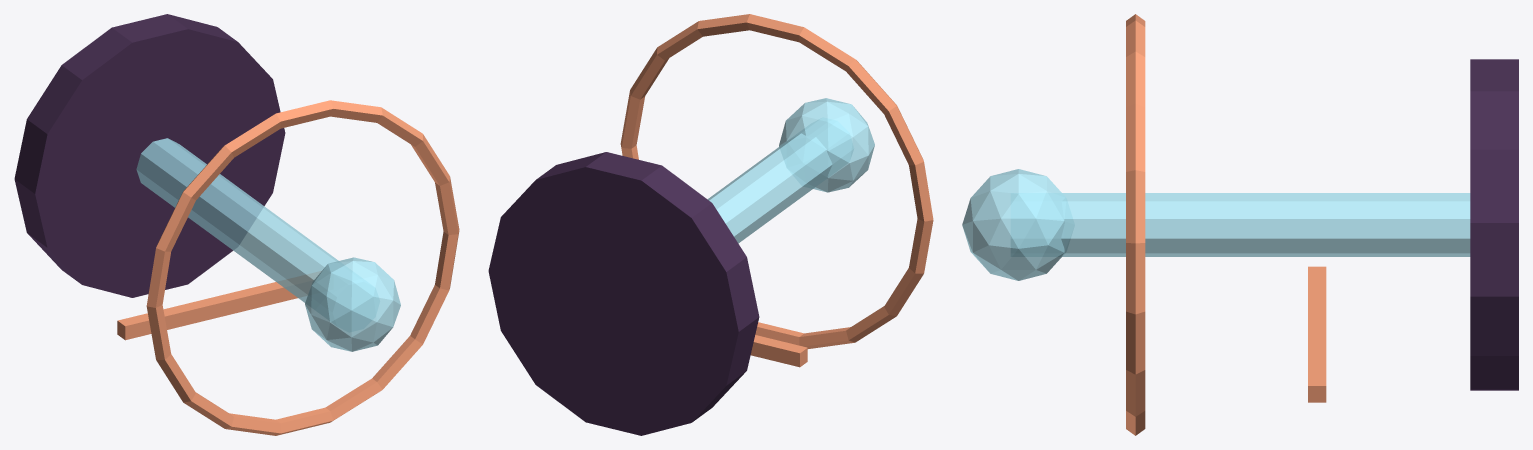
Rendered from 08_support_npc_assist_marker.glb.
3 views of the same model, side by side, from view 1: azimuth 30°, elevation 25°; view 2: azimuth 150°, elevation 25°; view 3: azimuth 270°, elevation 25° (orthographic). The views are drawn at different scales.
Parts seen in each view (by area): view 1: assist_beacon_base, support_lock_ring, assist_column, npc_signal_core, support_direction_marker; view 2: assist_beacon_base, support_lock_ring, assist_column, npc_signal_core, support_direction_marker; view 3: assist_column, assist_beacon_base, npc_signal_core, support_lock_ring, support_direction_marker.
Part boxes in pixels (x1,y1,x2,y2): assist_beacon_base: (14,14,285,297); support_lock_ring: (146,100,459,435); assist_column: (136,138,338,302); npc_signal_core: (305,257,400,351); support_direction_marker: (117,271,320,340); assist_beacon_base: (488,152,759,435); support_lock_ring: (620,14,933,348); assist_column: (707,133,832,243); npc_signal_core: (779,98,874,192); support_direction_marker: (750,335,807,367); assist_column: (1061,193,1470,256); assist_beacon_base: (1470,59,1518,390); npc_signal_core: (962,169,1065,280); support_lock_ring: (1126,14,1145,435); support_direction_marker: (1308,266,1326,402).
Size of the model in its own units: 1.05 by 1.03 by 1.38.
